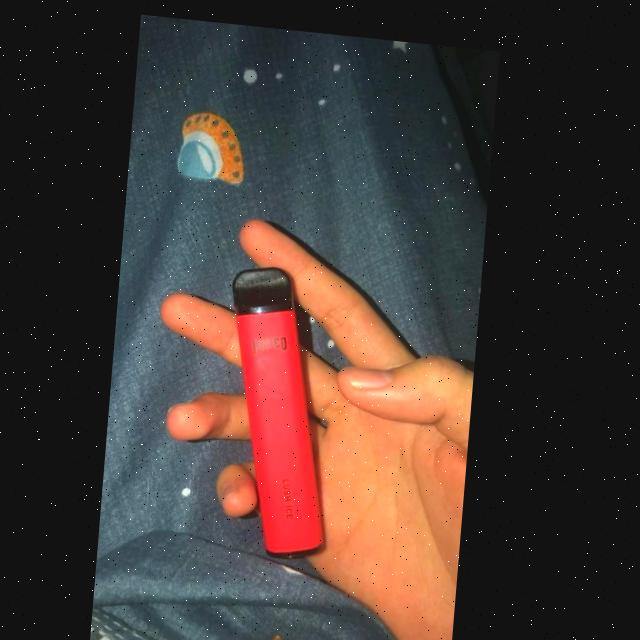vape: (217, 257, 352, 555)
